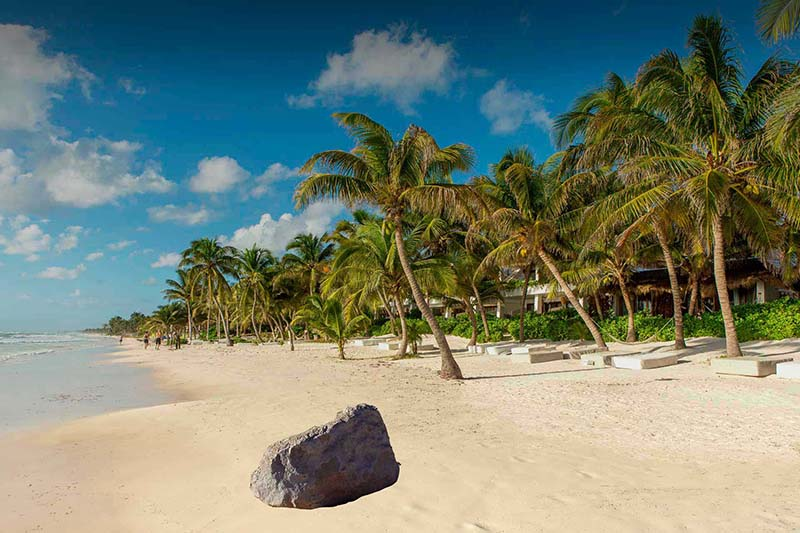Rocks: (248, 401, 403, 515)
